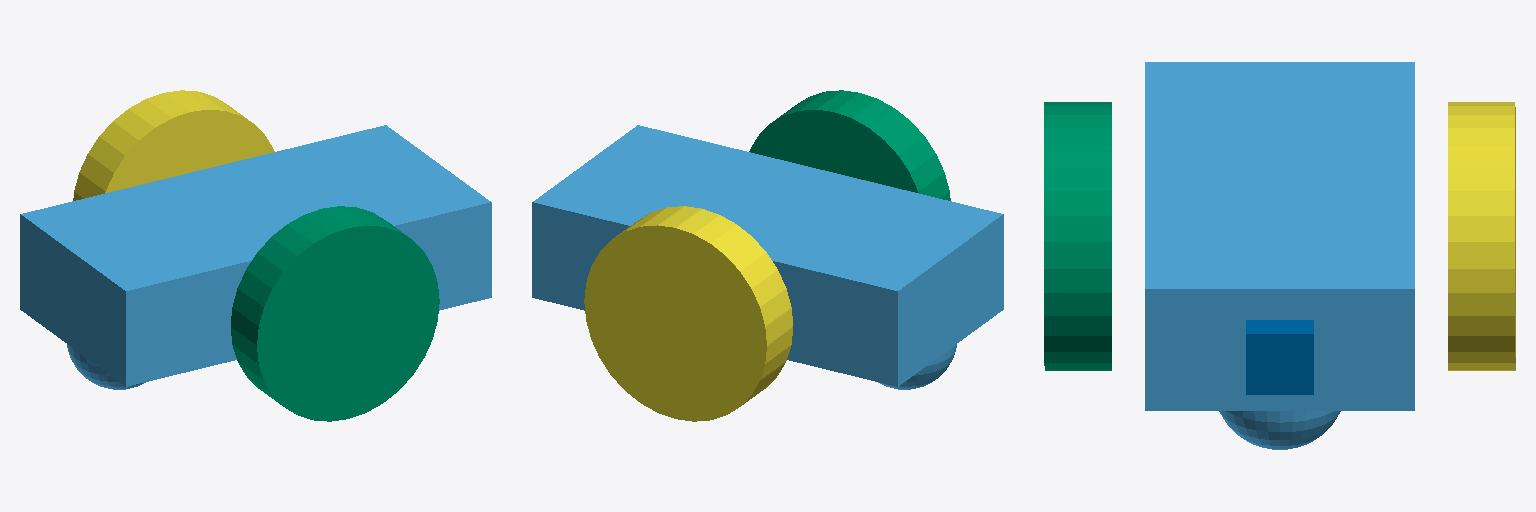
robot.urdf — udacity_bot:
<?xml version="1.0" ?>
<!-- =================================================================================== -->
<!-- |    This document was autogenerated by xacro from udacity_bot.xacro              | -->
<!-- |    EDITING THIS FILE BY HAND IS NOT RECOMMENDED                                 | -->
<!-- =================================================================================== -->
<robot name="udacity_bot" xmlns:xacro="http://www.ros.org/wiki/xacro">
  <!--Includes Sensor Plugins defined in .gazebo file-->
  <!--<xacro:include filename="$(find udacity_bot)/urdf/udacity_bot.gazebo" />-->
  <!-- ################### XACRO Definitions ############################# -->
  <!-- ################### XACRO Definitions ############################# -->
  <!-- ################### XACRO Definitions ############################# -->
  <!-- ################### XACRO Definitions ############################# -->
  <!-- ################### XACRO Origins ############################# -->
  <!-- ################### XACRO Inertias ############################# -->
  <!-- ################### MACRO Generators ############################# -->
  <!-- ################### MACRO Generators ############################# -->
  <!-- ################### MACRO Generators ############################# -->
  <!-- ################### MACRO Generators ############################# -->
  <!-- ################### ROBOT Definitions ############################# -->
  <!-- ################### ROBOT Definitions ############################# -->
  <!-- ################### ROBOT Definitions ############################# -->
  <!-- ################### ROBOT Definitions ############################# -->
  <link name="robot_footprint"/>
  <joint name="robot_footprint_joint" type="fixed">
    <origin rpy="0 0 0" xyz="0 0 0"/>
    <parent link="robot_footprint"/>
    <child link="chassis"/>
  </joint>
  <!-- BEGIN Chassis -->
  <link name="chassis">
    <pose>0 0 0.1 0 0 0</pose>
    <inertial>
      <mass value="15.0"/>
      <origin rpy=" 0 0 0" xyz="0.0 0 0"/>
      <inertia ixx="0.1" ixy="0" ixz="0" iyy="0.1" iyz="0" izz="0.1"/>
    </inertial>
    <collision name="collision">
      <origin rpy="0 0 0" xyz="0 0 0"/>
      <geometry>
        <box size=".4 .2 .1"/>
      </geometry>
    </collision>
    <visual name="chassis_visual">
      <origin rpy="0 0 0" xyz="0 0 0"/>
      <geometry>
        <box size=".4 .2 .1"/>
      </geometry>
    </visual>
    <collision name="back_caster_collision">
      <origin rpy=" 0 0 0" xyz="-0.15 0 -0.05"/>
      <geometry>
        <sphere radius="0.0499"/>
      </geometry>
    </collision>
    <visual name="back_caster_visual">
      <origin rpy=" 0 0 0" xyz="-0.15 0 -0.05"/>
      <geometry>
        <sphere radius="0.05"/>
      </geometry>
    </visual>
    <collision name="front_caster_collision">
      <origin rpy=" 0 0 0" xyz="0.15 0 -0.05"/>
      <geometry>
        <sphere radius="0.0499"/>
      </geometry>
    </collision>
    <visual name="front_caster_visual">
      <origin rpy=" 0 0 0" xyz="0.15 0 -0.05"/>
      <geometry>
        <sphere radius="0.05"/>
      </geometry>
    </visual>
  </link>
  <!-- END Chassis -->
  <!-- ################### LINK Definitions ############################# -->
  <!-- ################### LINK Definitions ############################# -->
  <!-- ################### LINK Definitions ############################# -->
  <!-- ################### LINK Definitions ############################# -->
  <link name="right_wheel">
    <inertial>
      <origin rpy="0 1.5707 1.5707" xyz="0 0 0"/>
      <mass value="5"/>
      <inertia ixx="0.1" ixy="0" ixz="0" iyy="0.1" iyz="0" izz="0.1"/>
    </inertial>
    <collision>
      <origin rpy="0 1.5707 1.5707" xyz="0 0 0"/>
      <!--UNITS IN METERS-->
      <!--<cylinder radius="" length=""/>-->
      <!--<box x="" y="" z="" />-->
      <!--<sphere radius=""/> -->
      <geometry>
        <cylinder length="0.05" radius="0.1"/>
      </geometry>
    </collision>
    <visual>
      <origin rpy="0 1.5707 1.5707" xyz="0 0 0"/>
      <!--UNITS IN METERS-->
      <!--<cylinder radius="" length=""/>-->
      <!--<box x="" y="" z="" />-->
      <!--<sphere radius=""/> -->
      <geometry>
        <cylinder length="0.05" radius="0.1"/>
      </geometry>
    </visual>
  </link>
  <gazebo reference="right_wheel">
    <!--<kp>1000.0</kp>-->
    <!--<kd>1000.0</kd>-->
    <!--<mu1>10.0</mu1>-->
    <!--<mu2>10.0</mu2>-->
    <material>Gazebo/Red</material>
  </gazebo>
  <link name="left_wheel">
    <inertial>
      <origin rpy="0 1.5707 1.5707" xyz="0 0 0"/>
      <mass value="5"/>
      <inertia ixx="0.1" ixy="0" ixz="0" iyy="0.1" iyz="0" izz="0.1"/>
    </inertial>
    <collision>
      <origin rpy="0 1.5707 1.5707" xyz="0 0 0"/>
      <!--UNITS IN METERS-->
      <!--<cylinder radius="" length=""/>-->
      <!--<box x="" y="" z="" />-->
      <!--<sphere radius=""/> -->
      <geometry>
        <cylinder length="0.05" radius="0.1"/>
      </geometry>
    </collision>
    <visual>
      <origin rpy="0 1.5707 1.5707" xyz="0 0 0"/>
      <!--UNITS IN METERS-->
      <!--<cylinder radius="" length=""/>-->
      <!--<box x="" y="" z="" />-->
      <!--<sphere radius=""/> -->
      <geometry>
        <cylinder length="0.05" radius="0.1"/>
      </geometry>
    </visual>
  </link>
  <gazebo reference="left_wheel">
    <!--<kp>1000.0</kp>-->
    <!--<kd>1000.0</kd>-->
    <!--<mu1>10.0</mu1>-->
    <!--<mu2>10.0</mu2>-->
    <material>Gazebo/Red</material>
  </gazebo>
  <!-- ################### JOINT Definitions ############################# -->
  <!-- ################### JOINT Definitions ############################# -->
  <!-- ################### JOINT Definitions ############################# -->
  <!-- ################### JOINT Definitions ############################# -->
  <joint name="right_wheel_hinge" type="continuous">
    <origin rpy="0 0 0" xyz="0 -0.15 0"/>
    <parent link="chassis"/>
    <child link="right_wheel"/>
    <axis rpy="0 0 0" xyz="0 1 0"/>
    <limit effort="10000" velocity="1000"/>
    <dynamics damping="1.0" friction="1.0"/>
  </joint>
  <joint name="left_wheel_hinge" type="continuous">
    <origin rpy="0 0 0" xyz="0 0.15 0"/>
    <parent link="chassis"/>
    <child link="left_wheel"/>
    <axis rpy="0 0 0" xyz="0 1 0"/>
    <limit effort="10000" velocity="1000"/>
    <dynamics damping="1.0" friction="1.0"/>
  </joint>
  <joint name="camera_joint" type="fixed">
    <origin rpy="0 0 0" xyz="0.2 0 0"/>
    <parent link="chassis"/>
    <child link="camera_link"/>
  </joint>
  <!--################### SENSOR Definitions ############################# -->
  <link name="camera_link">
    <inertial>
      <origin rpy="0 0 0" xyz="0 0 0"/>
      <!--<mass value="${min_mass}"/>-->
      <mass value="0.1"/>
      <inertia ixx="0.1" ixy="0" ixz="0" iyy="0.1" iyz="0" izz="0.1"/>
    </inertial>
    <collision>
      <origin rpy="0 0 0" xyz="0 0 0"/>
      <!--UNITS IN METERS-->
      <!--<cylinder radius="" length=""/>-->
      <!--<box x="" y="" z="" />-->
      <!--<sphere radius=""/> -->
      <geometry>
        <box size="0.05 0.05 0.05"/>
      </geometry>
    </collision>
    <visual>
      <origin rpy="0 0 0" xyz="0 0 0"/>
      <!--UNITS IN METERS-->
      <!--<cylinder radius="" length=""/>-->
      <!--<box x="" y="" z="" />-->
      <!--<sphere radius=""/> -->
      <geometry>
        <box size="0.05 0.05 0.05"/>
      </geometry>
    </visual>
  </link>
  <link name="hokuyo_link">
    <inertial>
      <origin rpy="0 0 0" xyz="0 0 0"/>
      <!--<mass value="${min_mass}"/>-->
      <mass value="0.1"/>
      <inertia ixx="0.1" ixy="0" ixz="0" iyy="0.1" iyz="0" izz="0.1"/>
    </inertial>
    <collision>
      <origin rpy="0 0 0" xyz="0 0 0"/>
      <!--UNITS IN METERS-->
      <!--<cylinder radius="" length=""/>-->
      <!--<box x="" y="" z="" />-->
      <!--<sphere radius=""/> -->
      <geometry>
        <box size="0.1 0.1 0.1"/>
      </geometry>
    </collision>
    <visual>
      <origin rpy="0 0 0" xyz="0 0 0"/>
      <!--<xacro:generate_geometry shape="box" x="0.05" y="0.05" z="0.05"/>-->
      <geometry>
        <mesh filename="package://udacity_bot/models/meshes/hokuyo.dae"/>
      </geometry>
    </visual>
  </link>
  <joint name="hokuyo_joint" type="fixed">
    <origin rpy="0 0 0" xyz="0.15 0 0.1"/>
    <parent link="chassis"/>
    <child link="hokuyo_link"/>
  </joint>
  <gazebo reference="hokuyo_link">
    <kp>1000.0</kp>
    <kd>1000.0</kd>
    <mu1>10.0</mu1>
    <mu2>10.0</mu2>
    <material>Gazebo/Green</material>
  </gazebo>
</robot>

--- Render facts (derived) ---
The picture shows the robot from 3 angles, left to right: view 1: azimuth 30°, elevation 25°; view 2: azimuth 150°, elevation 25°; view 3: azimuth 270°, elevation 25°; orthographic projection.
Model udacity_bot with 6 links and 5 joints (2 continuous, 3 fixed), rooted at robot_footprint, posed all joints at 0.
Visible links, largest first — view 1: chassis, right_wheel, left_wheel; view 2: chassis, left_wheel, right_wheel; view 3: chassis, right_wheel, left_wheel, camera_link.
Link boxes in pixels (x1=…): chassis: x1=20, y1=125, x2=491, y2=389; right_wheel: x1=231, y1=206, x2=439, y2=421; left_wheel: x1=73, y1=90, x2=274, y2=200; chassis: x1=532, y1=125, x2=1003, y2=389; left_wheel: x1=584, y1=206, x2=792, y2=421; right_wheel: x1=749, y1=90, x2=950, y2=200; chassis: x1=1145, y1=62, x2=1414, y2=449; right_wheel: x1=1044, y1=102, x2=1111, y2=370; left_wheel: x1=1448, y1=102, x2=1515, y2=370; camera_link: x1=1246, y1=320, x2=1313, y2=394.
Size in the robot's own frame: 0.425 by 0.35 by 0.2 metres.
Meshes: 1 distinct files referenced, 0 mesh visuals loaded (none loaded); not drawn: 1 (reference not matched to a file when rendering).